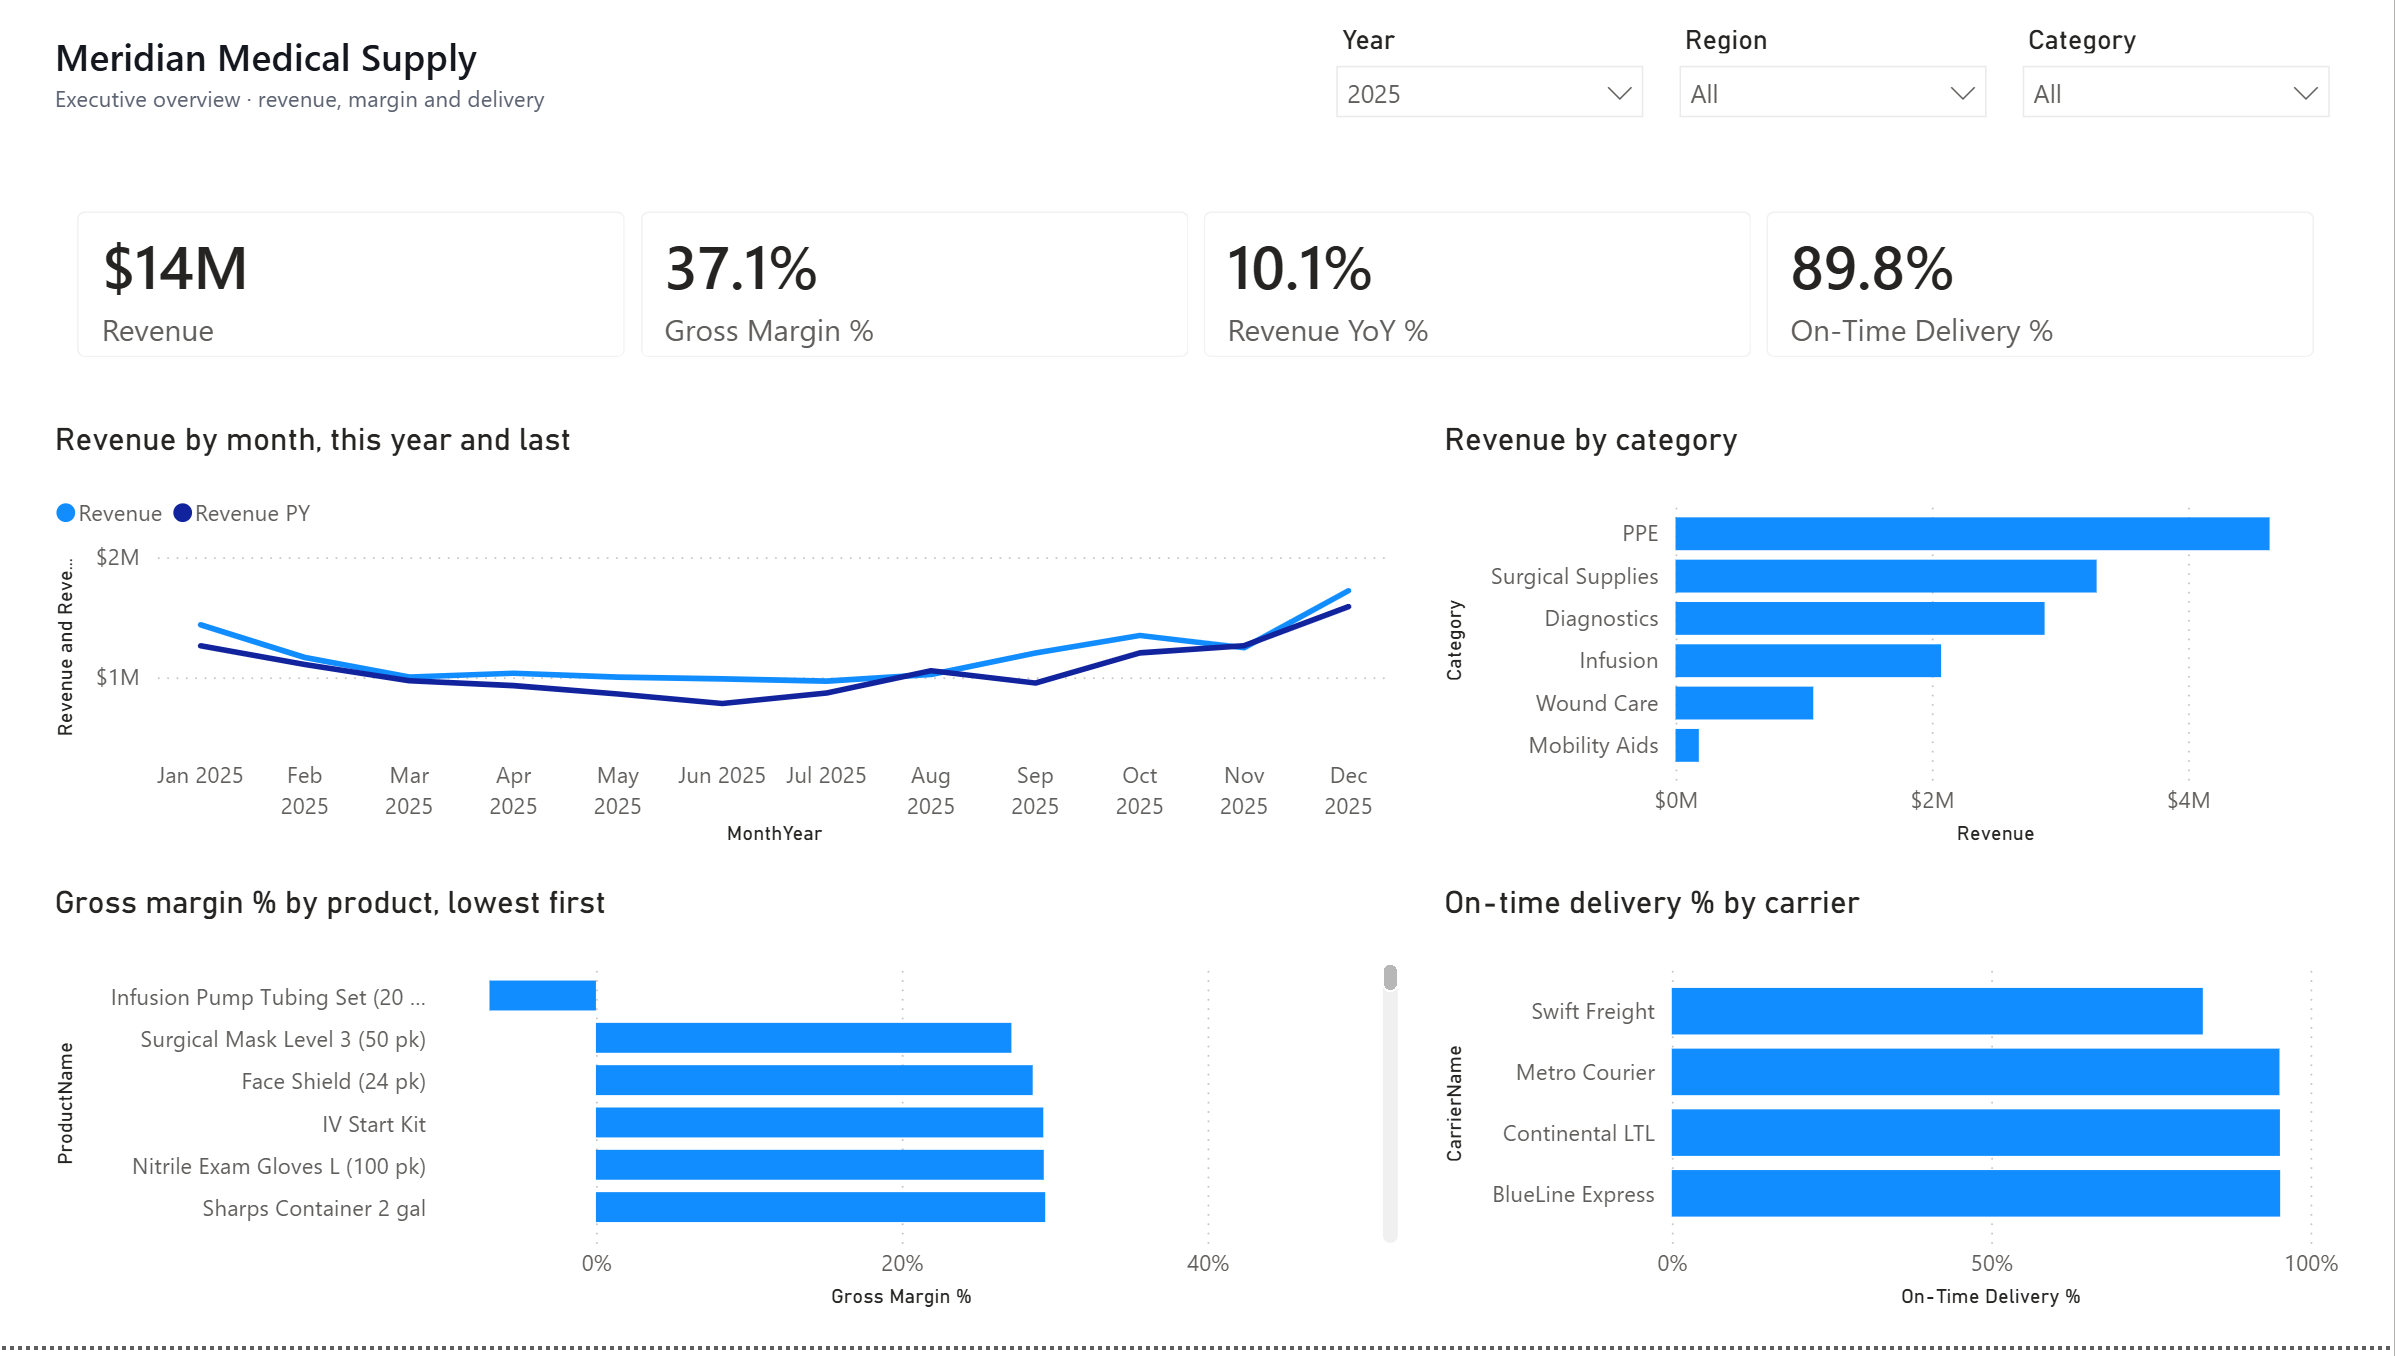

This screenshot's page, from the dashboard's own definition file:
{"tool":"powerbi","page":{"name":"Executive Overview","canvas":[1280,720],"ordinal":0},"visuals":[{"type":"textbox","box":[24,12,640,64],"z":0},{"type":"slicer","fields":{"Values":["Dim_Date.Year"]},"box":[704,8,184,80],"z":1000},{"type":"slicer","fields":{"Values":["Dim_Warehouse.Region"]},"box":[888,8,184,80],"z":2000},{"type":"slicer","fields":{"Values":["Dim_Product.Category"]},"box":[1072,8,184,80],"z":3000},{"type":"cardVisual","fields":{"Data":["_Measures.Revenue","_Measures.Gross Margin %","_Measures.Revenue YoY %","_Measures.On-Time Delivery %"]},"box":[24,96,1232,112],"z":4000},{"type":"lineChart","title":"Revenue by month, this year and last","fields":{"Category":["Dim_Date.MonthYear"],"Y":["_Measures.Revenue","_Measures.Revenue PY"]},"box":[24,224,728,232],"z":5000},{"type":"clusteredBarChart","title":"Revenue by category","fields":{"Category":["Dim_Product.Category"],"Y":["_Measures.Revenue"]},"box":[768,224,488,232],"z":6000},{"type":"clusteredBarChart","title":"Gross margin % by product, lowest first","fields":{"Category":["Dim_Product.ProductName"],"Y":["_Measures.Gross Margin %"]},"box":[24,472,728,232],"z":7000},{"type":"clusteredBarChart","title":"On-time delivery % by carrier","fields":{"Category":["Dim_Carrier.CarrierName"],"Y":["_Measures.On-Time Delivery %"]},"box":[768,472,488,232],"z":8000}]}

Visuals, with their boxes in screenshot pixels (x1, y1, x2, y2), scaled from the page's 1280x720 canvas onto the 2395x1356 screenshot:
textbox: rect(45, 23, 1242, 143)
slicer - Dim_Date.Year: rect(1317, 15, 1662, 166)
slicer - Dim_Warehouse.Region: rect(1662, 15, 2006, 166)
slicer - Dim_Product.Category: rect(2006, 15, 2350, 166)
cardVisual - _Measures.Revenue x _Measures.Gross Margin %: rect(45, 181, 2350, 392)
"Revenue by month, this year and last" lineChart: rect(45, 422, 1407, 859)
"Revenue by category" clusteredBarChart: rect(1437, 422, 2350, 859)
"Gross margin % by product, lowest first" clusteredBarChart: rect(45, 889, 1407, 1326)
"On-time delivery % by carrier" clusteredBarChart: rect(1437, 889, 2350, 1326)
